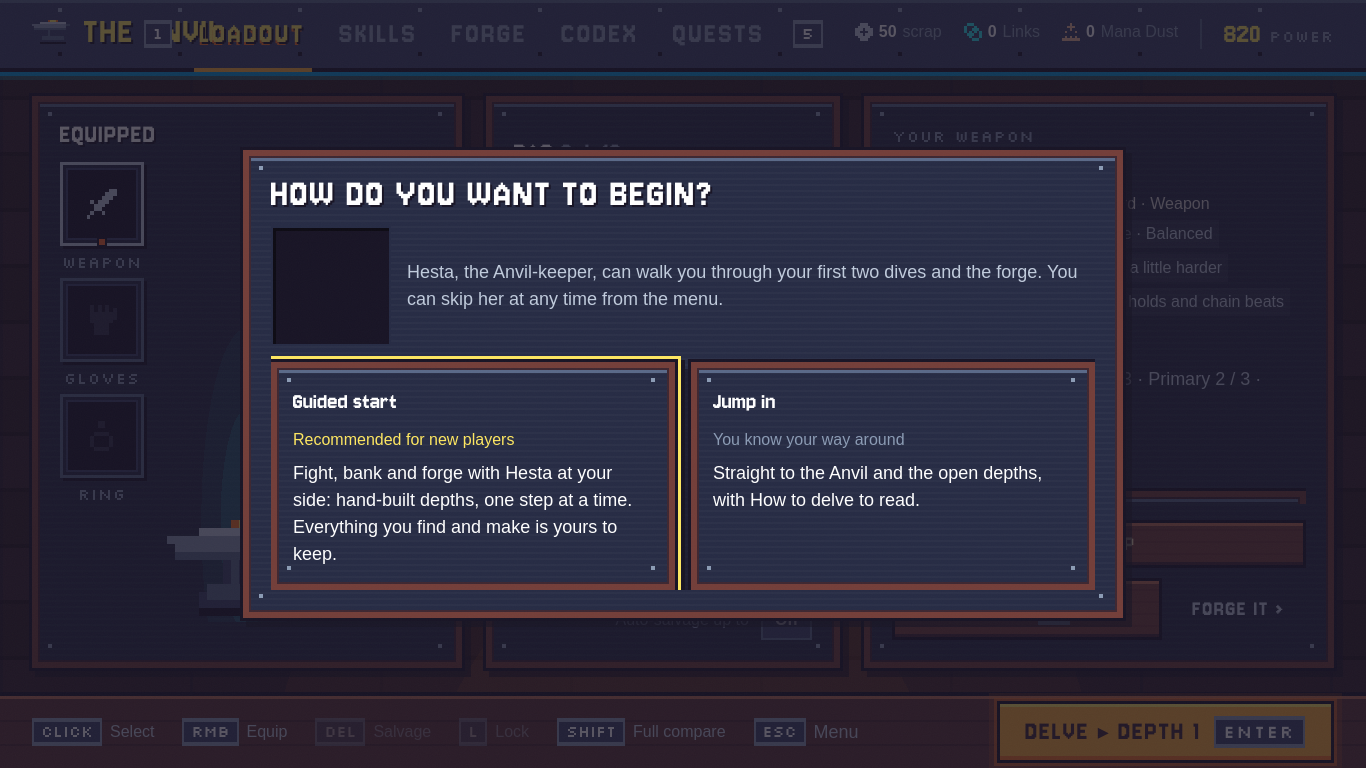
Scenario: DelveCamp › a new save chooses its mana first; Frost starts with frost gear and frost abilities
This screenshot has width=1366, height=768.
Guided start or Jump in comes first (see the tutorial spec).
Click the button with test id "guided-jump": (893, 476) [691,362,1095,590]
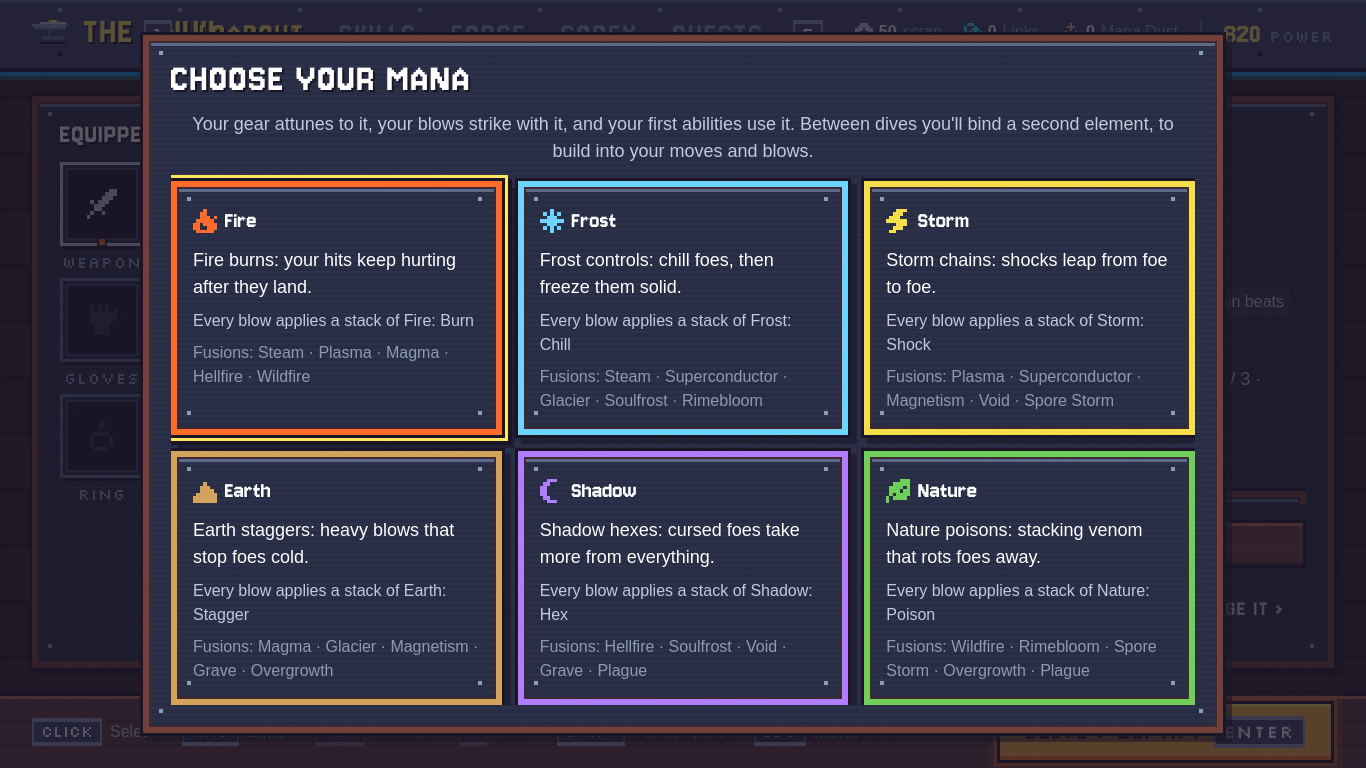
Now the dialog with test id "mana-choice" shows "Between dives you'll bind a second element", box [192,114,1174,161]
Now the button with test id "mana-choice-storm" shows "Storm chains", box [864,181,1195,435]
Now the button with test id "mana-choice-storm" shows "Every blow applies a stack of Storm: Shock", box [864,181,1195,435]
Click the button with test id "mana-choice-frost": (594, 220) [518,181,848,435]
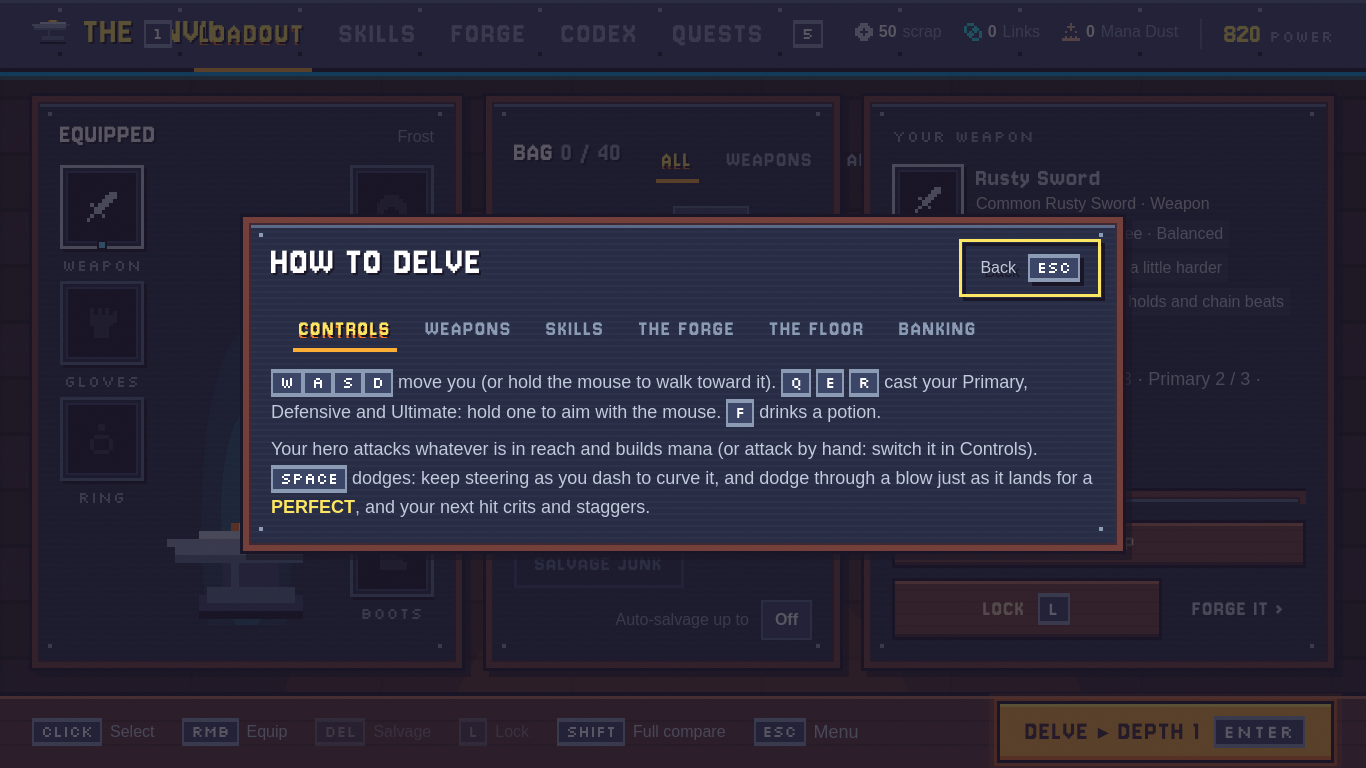
Now the dialog with test id "mana-choice" is gone
Click the button "Back Esc": (1030, 268) [965,245,1095,291]
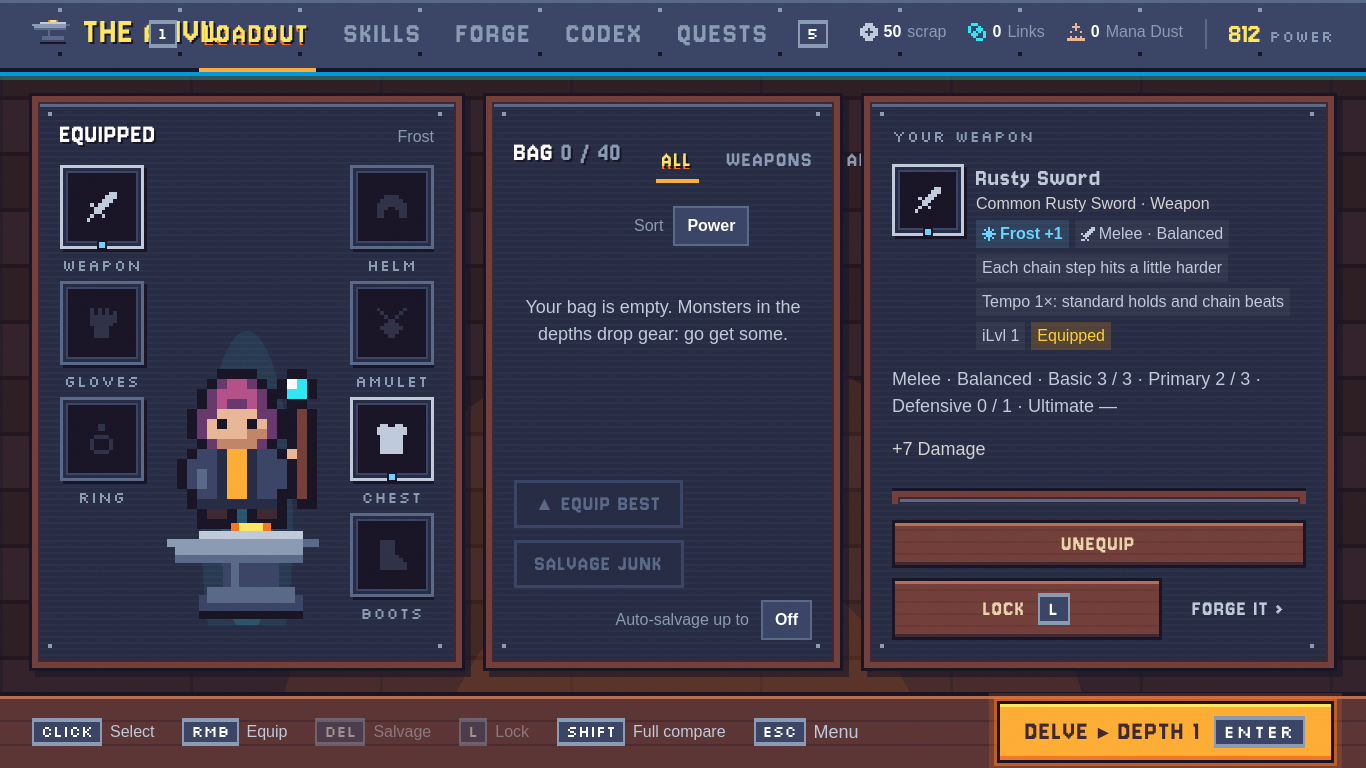
Now the dialog with test id "help-dialog" is gone
